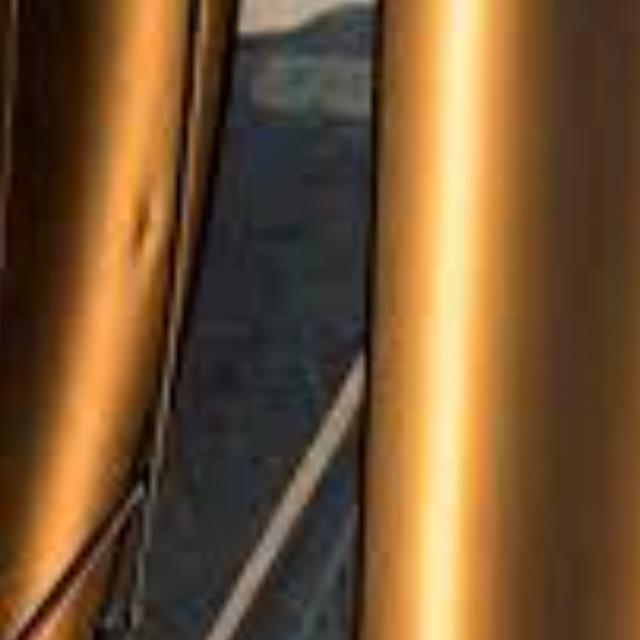dents: (122, 153, 160, 287)
